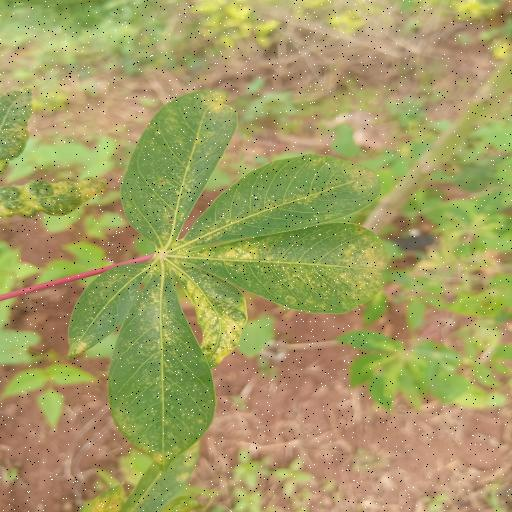Cassava_Mosaic: (69, 84, 397, 466)
